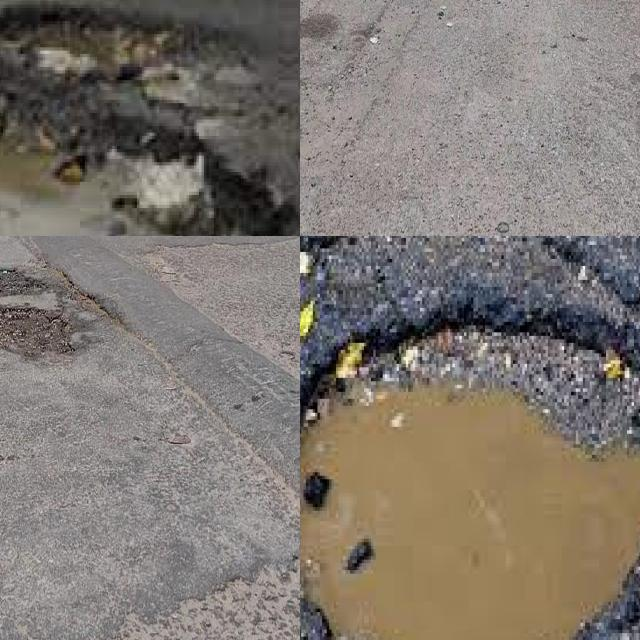Pothole: (300, 322, 640, 640), (0, 5, 179, 83), (0, 305, 75, 364), (0, 263, 50, 301)
